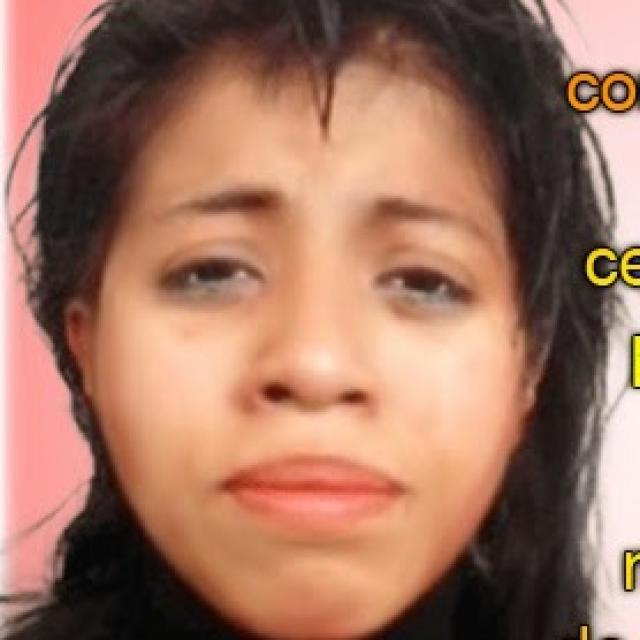Depress: (97, 49, 538, 638)
